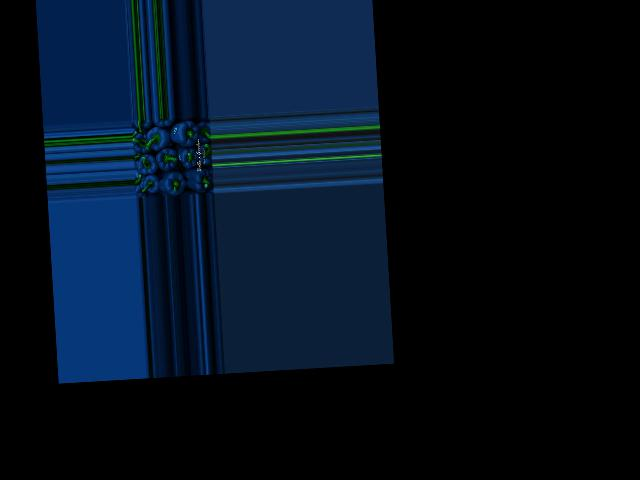bell_pepper: (193, 117, 211, 145)
